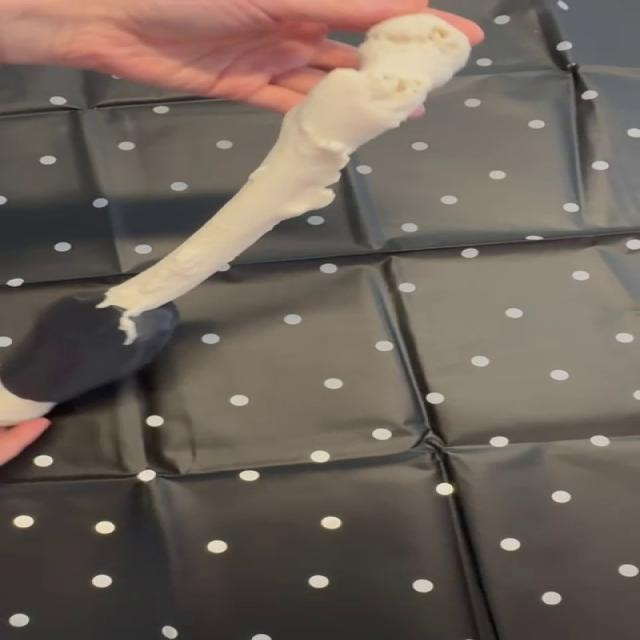bones: (0, 17, 470, 427)
